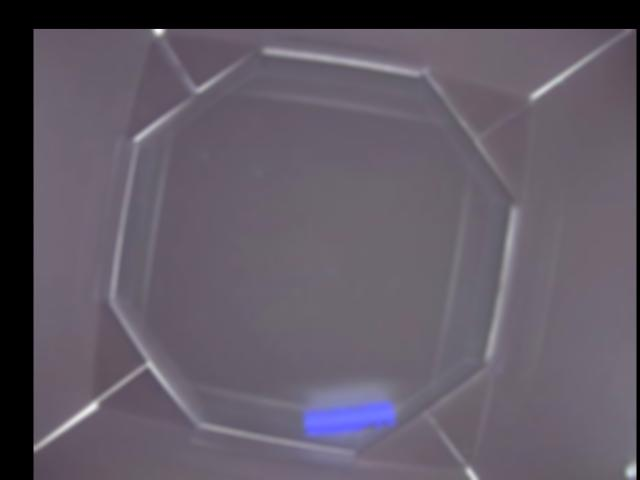Battery: (301, 400, 400, 434)
